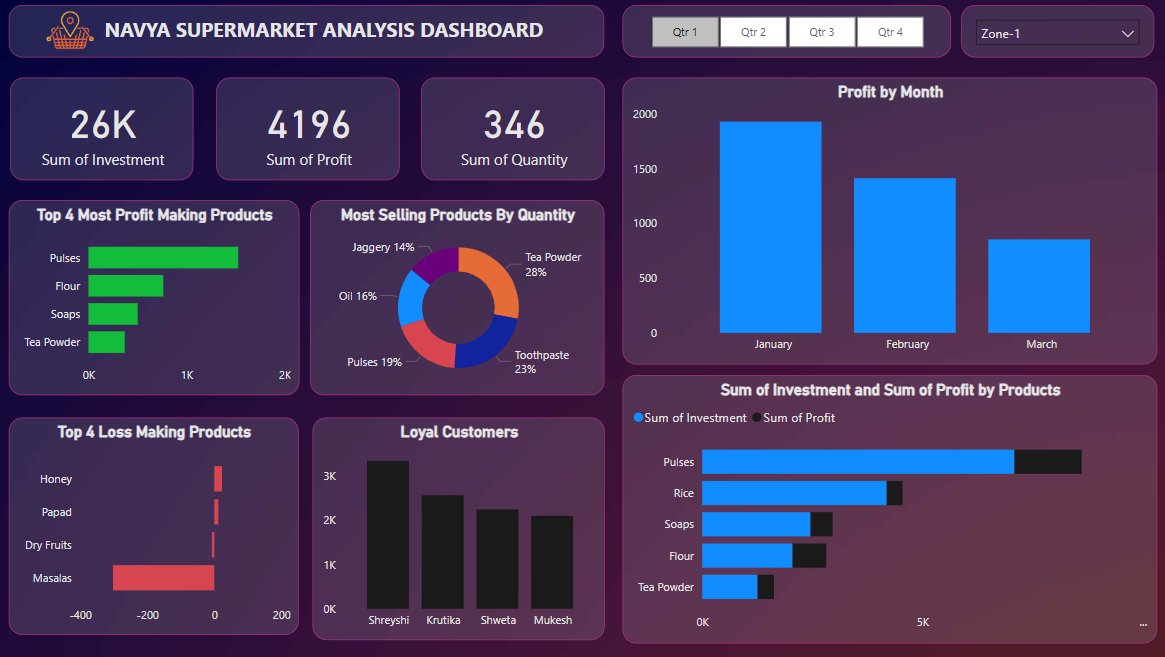

The page's visual inventory and layout, read from the dashboard file:
{"tool":"powerbi","page":{"name":"Page 1","canvas":[1280,720],"ordinal":0},"visuals":[{"type":"textbox","box":[20,11.4,644.3,57.1],"z":0},{"type":"columnChart","title":"Profit by Month","fields":{"Category":["Orders.Order Date.Variation.Date Hierarchy.Month"],"Y":["Details.Profit"]},"box":[684.3,88.6,578.6,310],"z":1000},{"type":"barChart","fields":{"Category":["Details.Sub-Category"],"Y":["Details.Amount","Details.Profit"]},"box":[684.3,411.4,578.6,290],"z":2000},{"type":"donutChart","title":"Most Selling Products By Quantity","fields":{"Category":["Details.Sub-Category"],"Y":["Details.Quantity"]},"box":[345.7,221.4,318.6,211.4],"z":3000},{"type":"card","fields":{"Values":["Details.Quantity"]},"box":[466.4,89.2,198.7,110.9],"z":4000},{"type":"barChart","title":"Top 4 Most Profit Making Products","fields":{"Category":["Details.Sub-Category"],"Y":["Details.Profit"]},"box":[20,221.4,314.3,211.4],"z":5000},{"type":"columnChart","title":"Loyal Customers","fields":{"Category":["Orders.CustomerName"],"Y":["Details.Amount"]},"box":[348.8,457,316.4,240.6],"z":6000},{"type":"slicer","fields":{"Values":["Orders.Order Date.Variation.Date Hierarchy.Quarter"]},"box":[684.1,10.8,355.6,56.8],"z":7000},{"type":"slicer","fields":{"Values":["Orders.State"]},"box":[1050,11.4,208.6,57.1],"z":8000},{"type":"barChart","title":"Top 4 Loss Making Products","fields":{"Category":["Details.Sub-Category"],"Y":["Details.Profit"]},"box":[20.3,457,313.6,235.2],"z":9000},{"type":"image","box":[52.7,0,68.9,75.7],"z":10000},{"type":"card","fields":{"Values":["Details.Profit"]},"box":[244.7,89.2,198.7,110.9],"z":11000},{"type":"card","fields":{"Values":["Details.Investment"]},"box":[21.6,89.2,198.7,110.9],"z":12000}]}

Visuals, with their boxes in screenshot pixels (x1, y1, x2, y2), scaled from the page's 1280x720 canvas onto the 1165x657 screenshot:
textbox: BBox(18, 10, 605, 63)
"Profit by Month" columnChart: BBox(623, 81, 1149, 364)
barChart - Details.Sub-Category x Details.Amount: BBox(623, 375, 1149, 640)
"Most Selling Products By Quantity" donutChart: BBox(315, 202, 605, 395)
card - Details.Quantity: BBox(424, 81, 605, 183)
"Top 4 Most Profit Making Products" barChart: BBox(18, 202, 304, 395)
"Loyal Customers" columnChart: BBox(317, 417, 605, 637)
slicer - Orders.Order Date.Variation.Date Hierarchy.Quarter: BBox(623, 10, 946, 62)
slicer - Orders.State: BBox(956, 10, 1146, 63)
"Top 4 Loss Making Products" barChart: BBox(18, 417, 304, 632)
image: BBox(48, 0, 111, 69)
card - Details.Profit: BBox(223, 81, 404, 183)
card - Details.Investment: BBox(20, 81, 201, 183)
